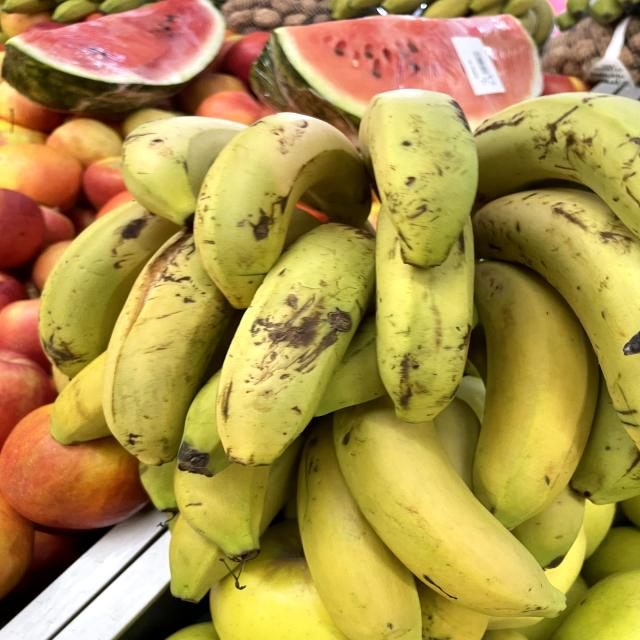banana: (444, 246, 640, 531)
